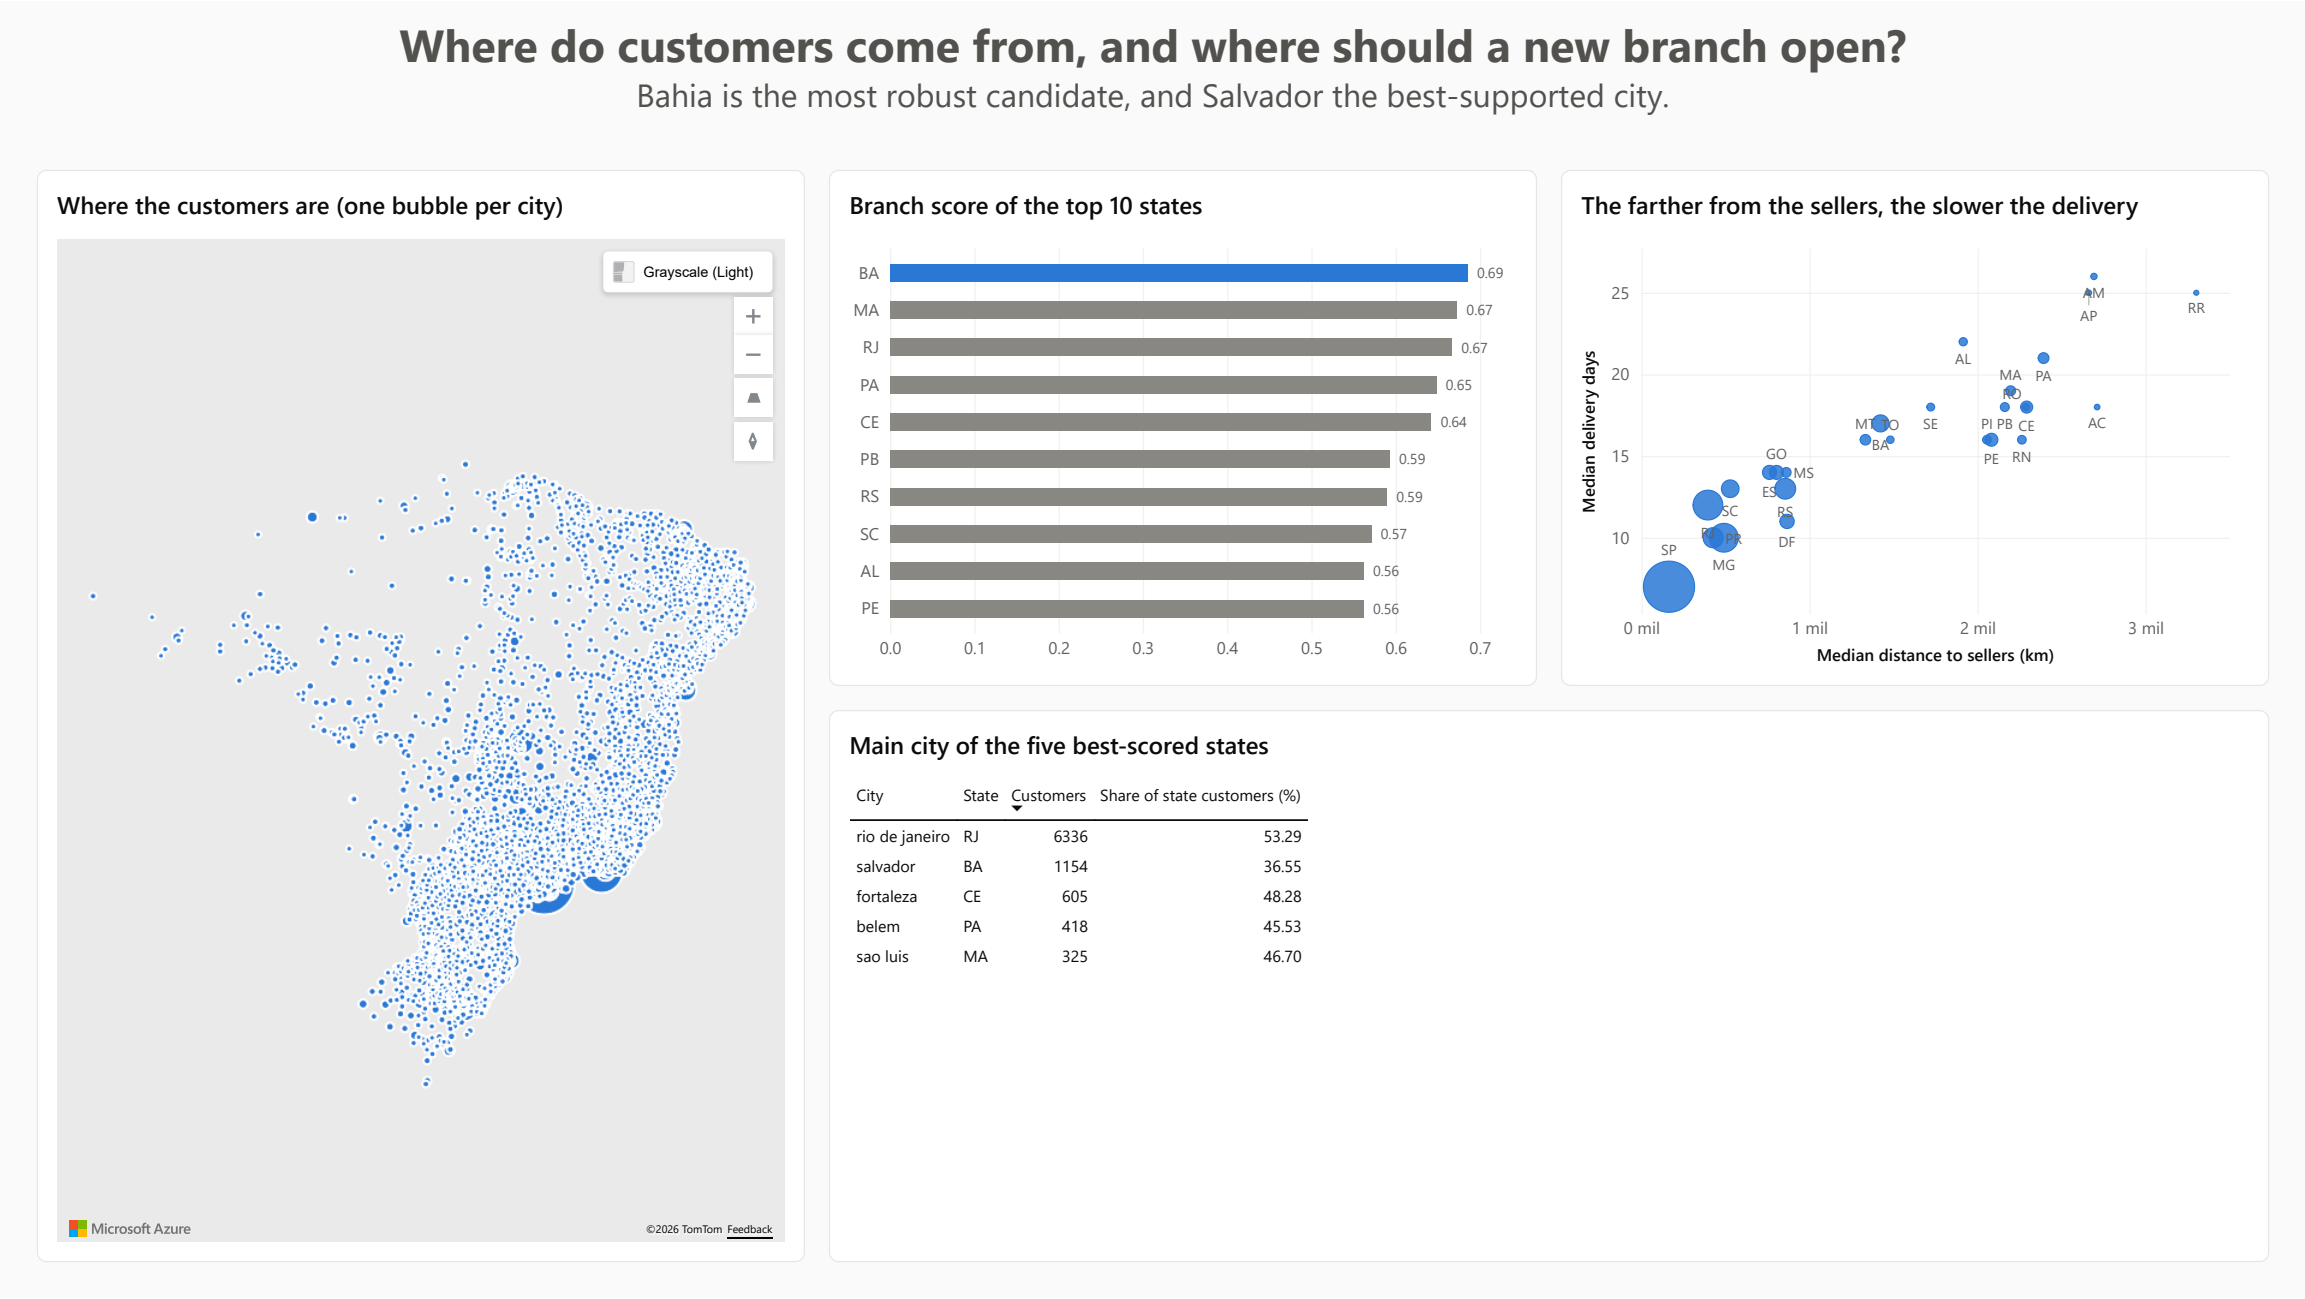

The page's visual inventory and layout, read from the dashboard file:
{"tool":"powerbi","page":{"name":"Locations","canvas":[1920,1080],"ordinal":2},"visuals":[{"type":"textbox","box":[30,10,1860,115],"z":0},{"type":"azureMap","title":"Where the customers are (one bubble per city)","fields":{"Size":["Sum(city_summary.customers)"],"X":["city_summary.lng"],"Y":["city_summary.lat"]},"box":[30,140,640,910],"z":1},{"type":"barChart","title":"Branch score of the top 10 states","fields":{"Category":["state_scores.customer_state"],"Y":["Sum(state_scores.score)"]},"box":[690,140,590,430],"z":2},{"type":"scatterChart","title":"The farther from the sellers, the slower the delivery","fields":{"Category":["state_scores.customer_state"],"Size":["Sum(state_scores.customers)"],"X":["Sum(state_scores.median_distance_km)"],"Y":["Sum(state_scores.median_delivery_days)"]},"box":[1300,140,590,430],"z":3},{"type":"tableEx","title":"Main city of the five best-scored states","fields":{"Values":["city_summary.customer_city","city_summary.customer_state","Sum(city_summary.customers)","Sum(city_summary.share_of_state_customers_pct)"]},"box":[690,590,1200,460],"z":4}]}

Visuals, with their boxes in screenshot pixels (x1, y1, x2, y2), scaled from the page's 1920x1080 canvas onto the 2305x1299 screenshot:
textbox: 36 12 2269 150
"Where the customers are (one bubble per city)" azureMap: 36 168 804 1263
"Branch score of the top 10 states" barChart: 828 168 1537 686
"The farther from the sellers, the slower the delivery" scatterChart: 1561 168 2269 686
"Main city of the five best-scored states" tableEx: 828 710 2269 1263
